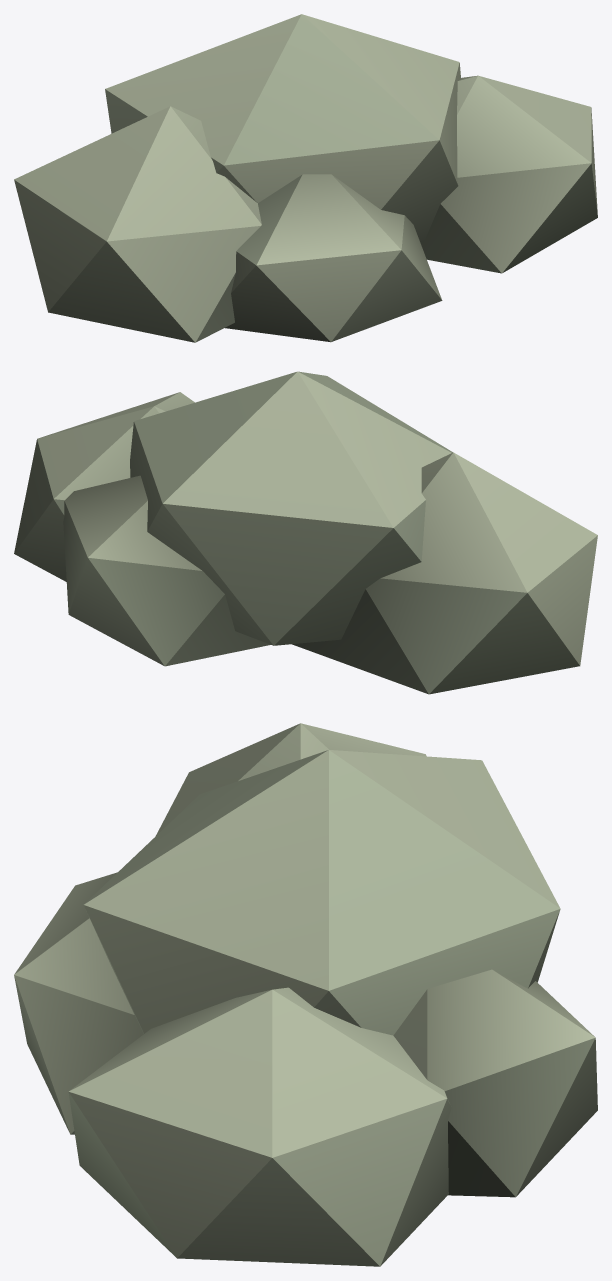
File: bush.lod2.glb
3 views of the same model, one above another, from view 1: azimuth 30°, elevation 25°; view 2: azimuth 150°, elevation 25°; view 3: azimuth 270°, elevation 25° (orthographic). The views are drawn at different scales.
Bounding box in the file's own units: 3.22 × 1.36 × 2.07.
